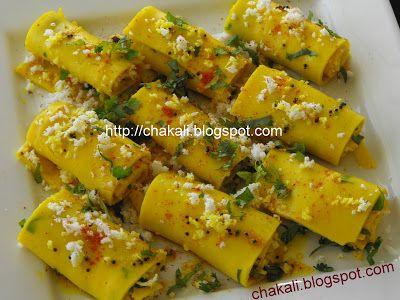khandvi: (27, 140, 400, 259)
